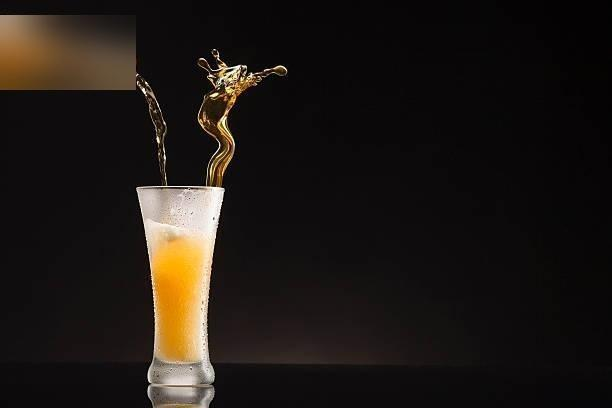glass-normal: (135, 185, 225, 389)
